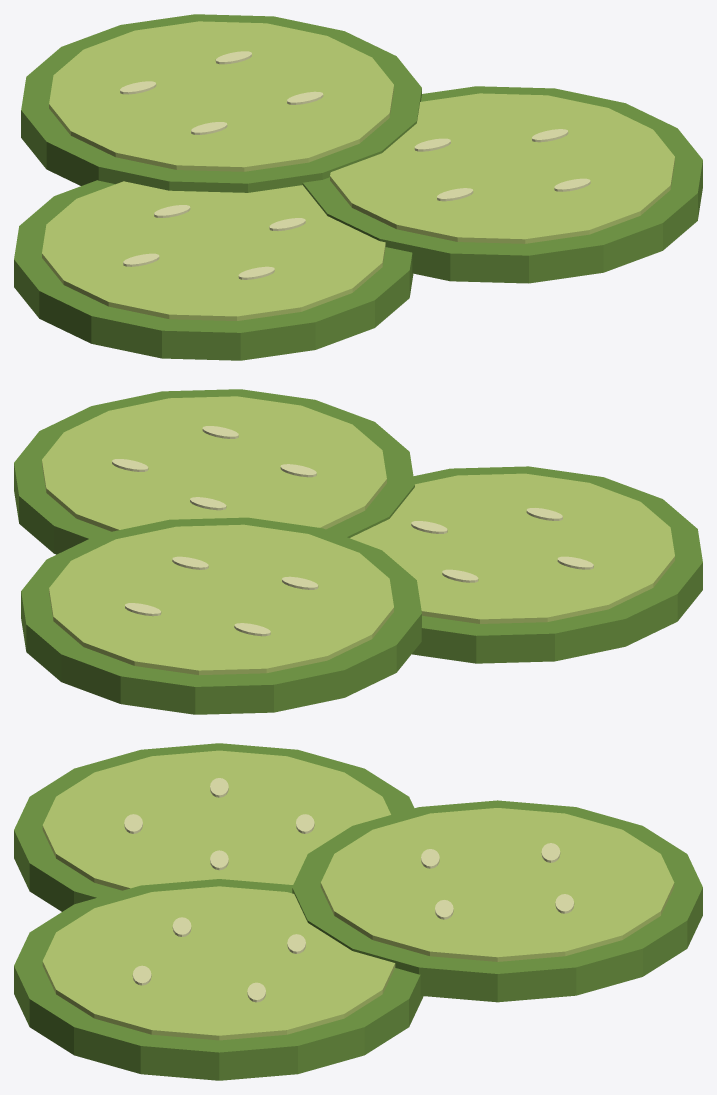
File: pickle.glb
3 renders of one model, top to bottom at view 1: azimuth 30°, elevation 25°; view 2: azimuth 150°, elevation 25°; view 3: azimuth 270°, elevation 25°, orthographic.
Parts seen in each view (by area): view 1: pickle; view 2: pickle; view 3: pickle.
Boxes of the visible parts, <box> form: pickle: <box>14,14,702,360</box>; pickle: <box>14,389,702,714</box>; pickle: <box>14,743,702,1080</box>.
Size of the model in its own units: 0.288 by 0.021 by 0.265.
